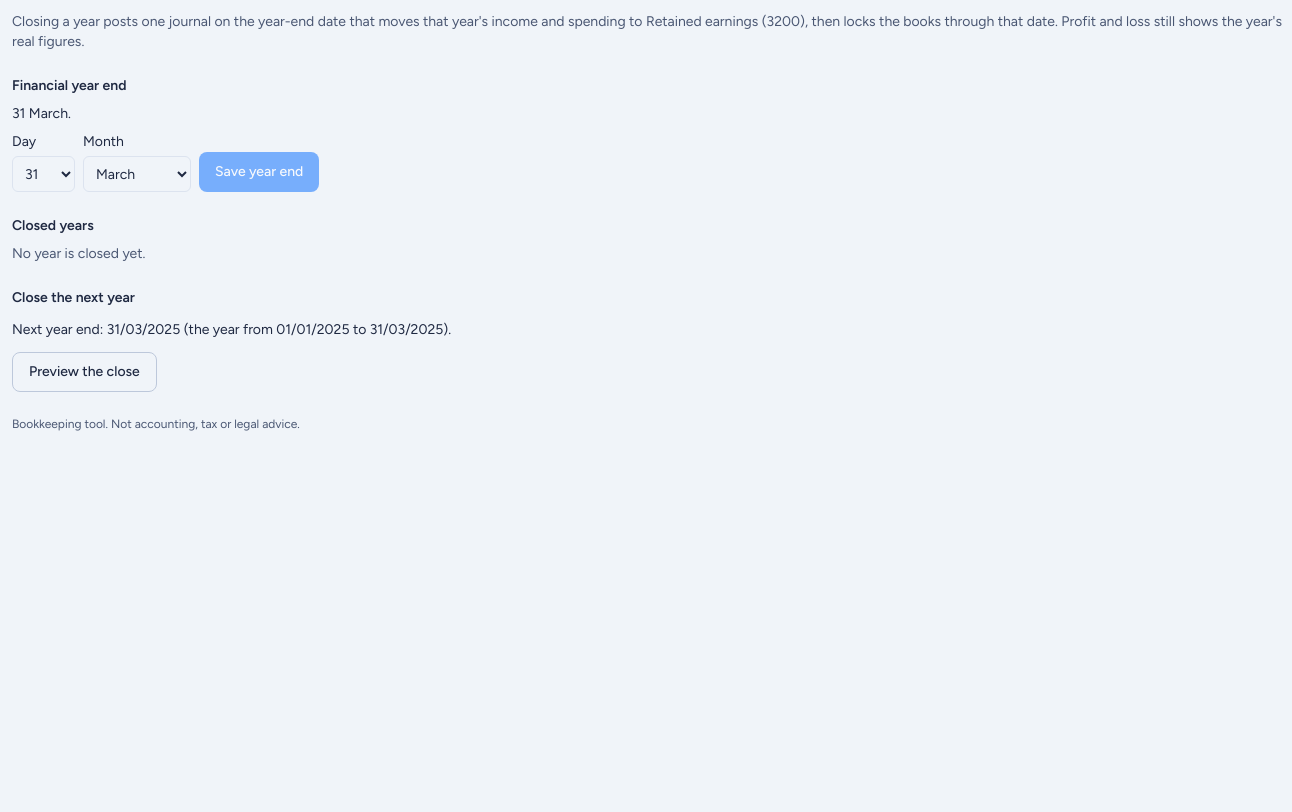
Year end: closing a year › a loss debits retained earnings
The image size is (1292, 812).
What coordinates should you click on to do the following:
click the button "Preview the close"
I would click on:
 (84, 372)
Its box is [12,352,157,392].
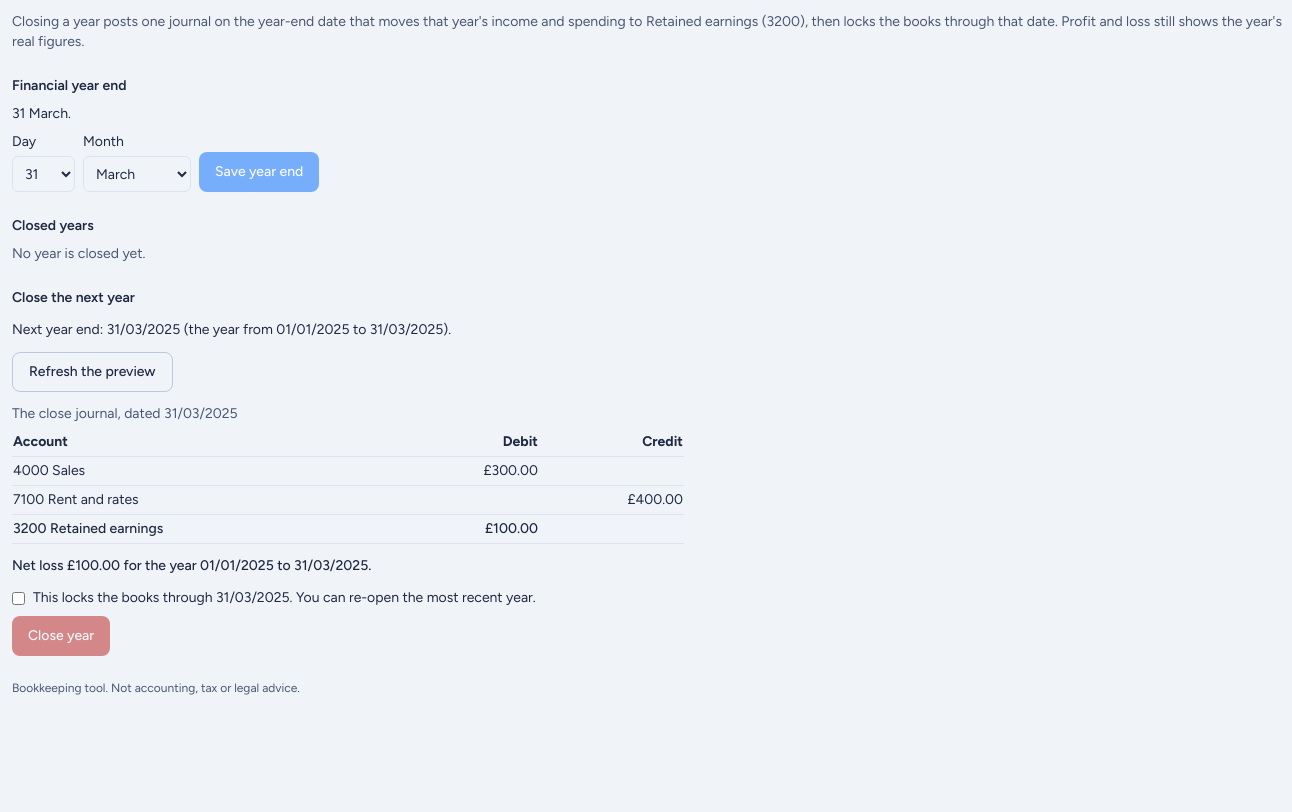
Now the row "3200 Retained earnings £100.00" is shown, box [12,514,684,544]
Now the text with test id "ye-result" shows "Net loss £100.00", box [12,557,120,574]
